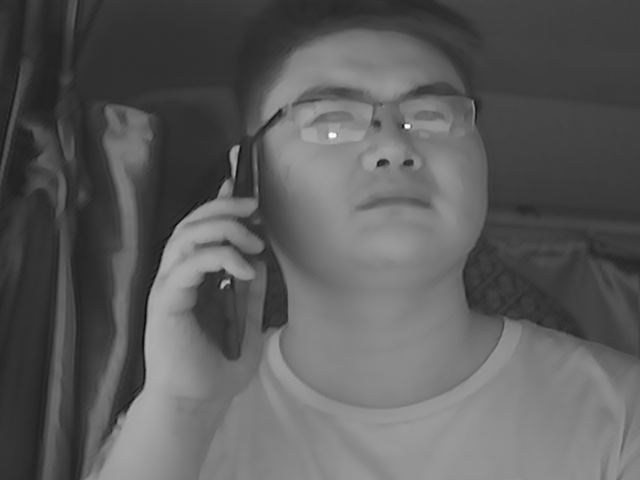hand: (146, 192, 278, 389)
